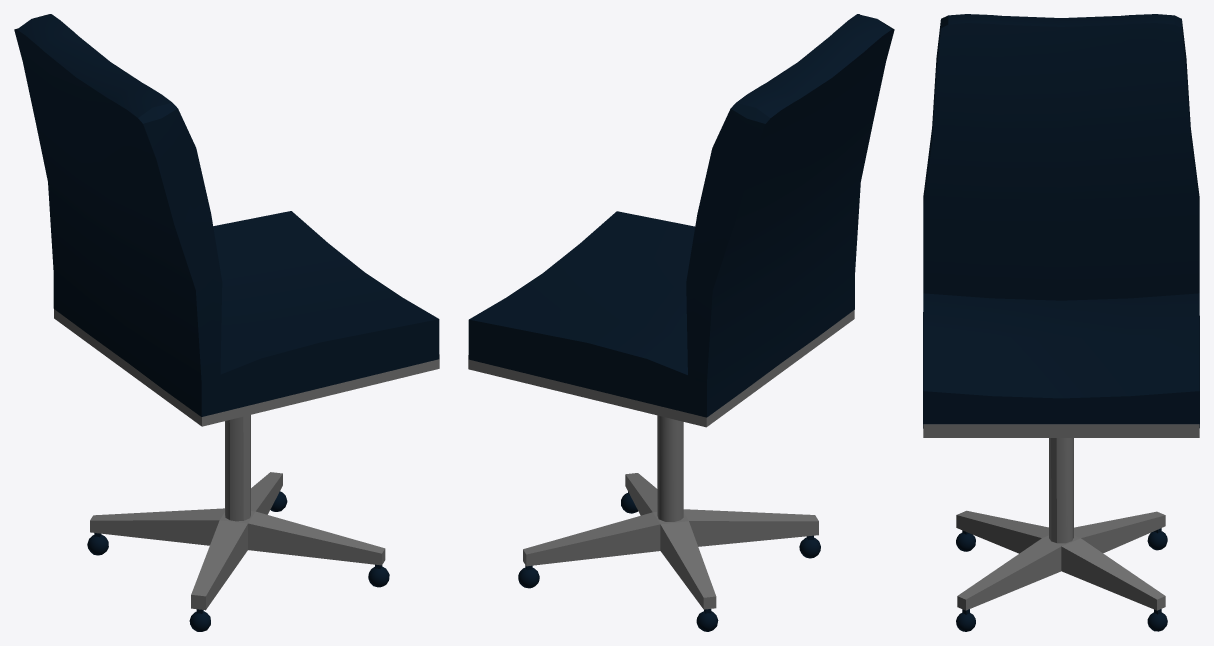
The model's file is chair.fbx.
The picture shows the model from 3 angles, left to right: view 1: azimuth 30°, elevation 25°; view 2: azimuth 150°, elevation 25°; view 3: azimuth 270°, elevation 25°; orthographic projection. The views are drawn at different scales.
Parts seen in each view (by area): view 1: wheels.002; view 2: wheels.002; view 3: wheels.002.
Part boxes in pixels (x1=…): wheels.002: x1=14, y1=14, x2=439, y2=631; wheels.002: x1=468, y1=14, x2=894, y2=631; wheels.002: x1=923, y1=14, x2=1199, y2=631.
Size of the model in its own units: 106 by 191 by 93.72.
